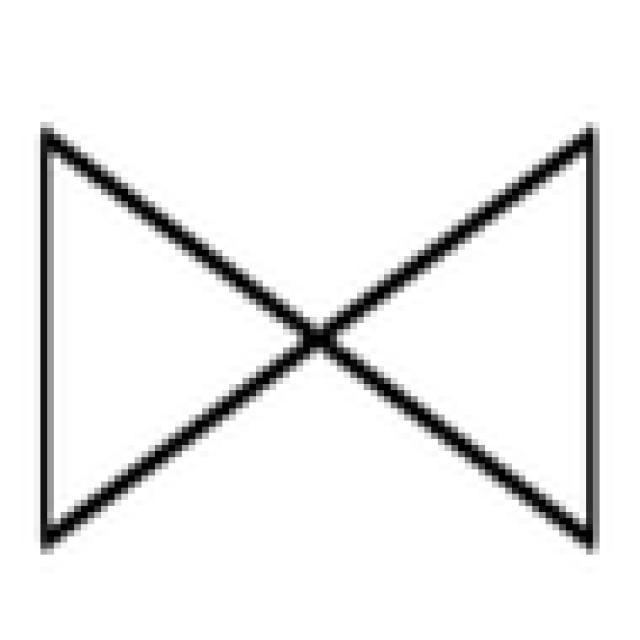Gate valve: (40, 128, 586, 542)
